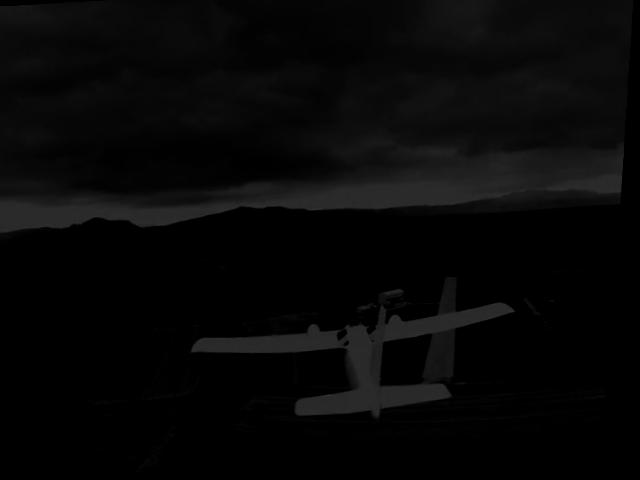hedef: (181, 273, 535, 443)
